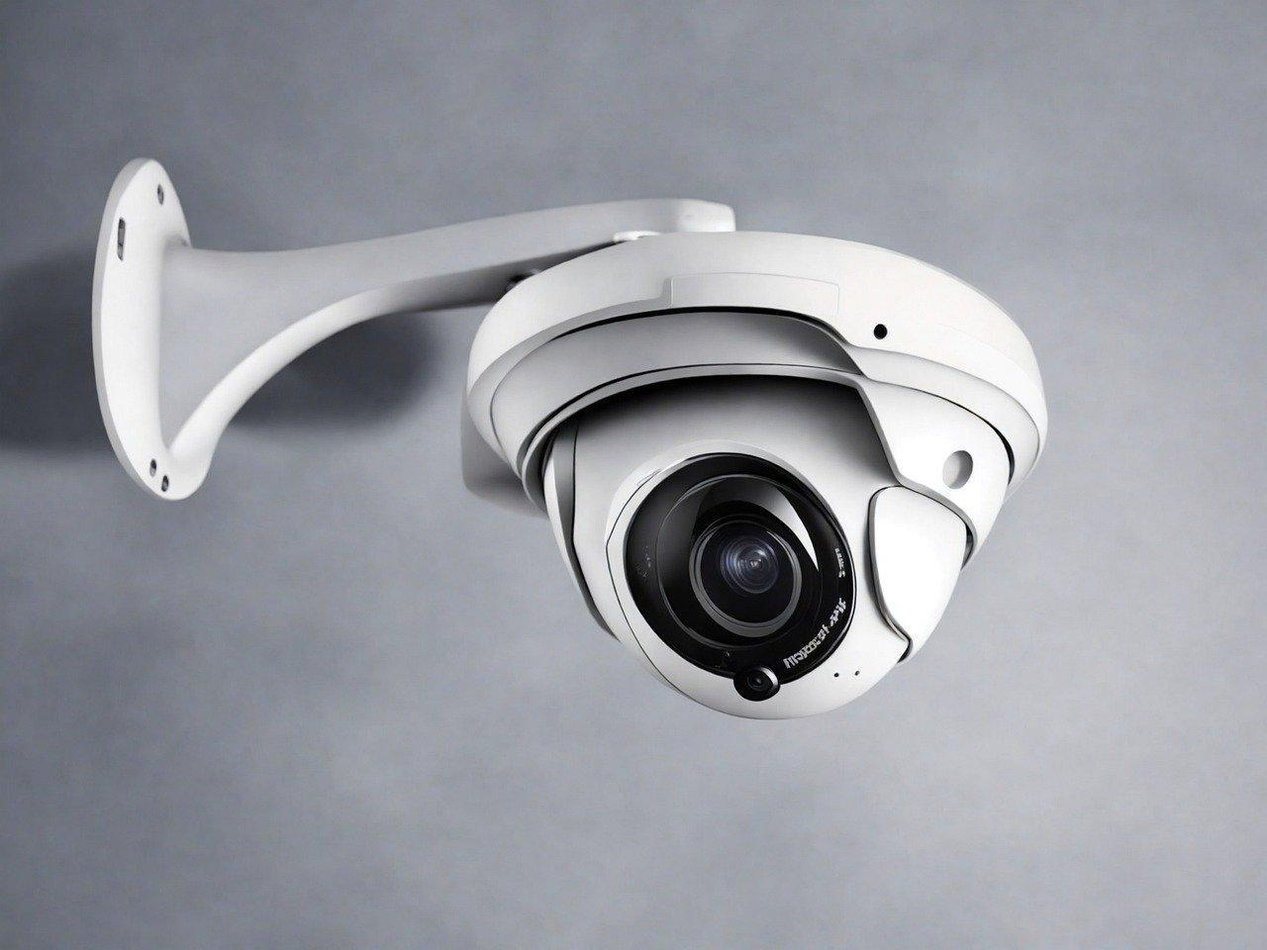camera: (455, 153, 1042, 797)
